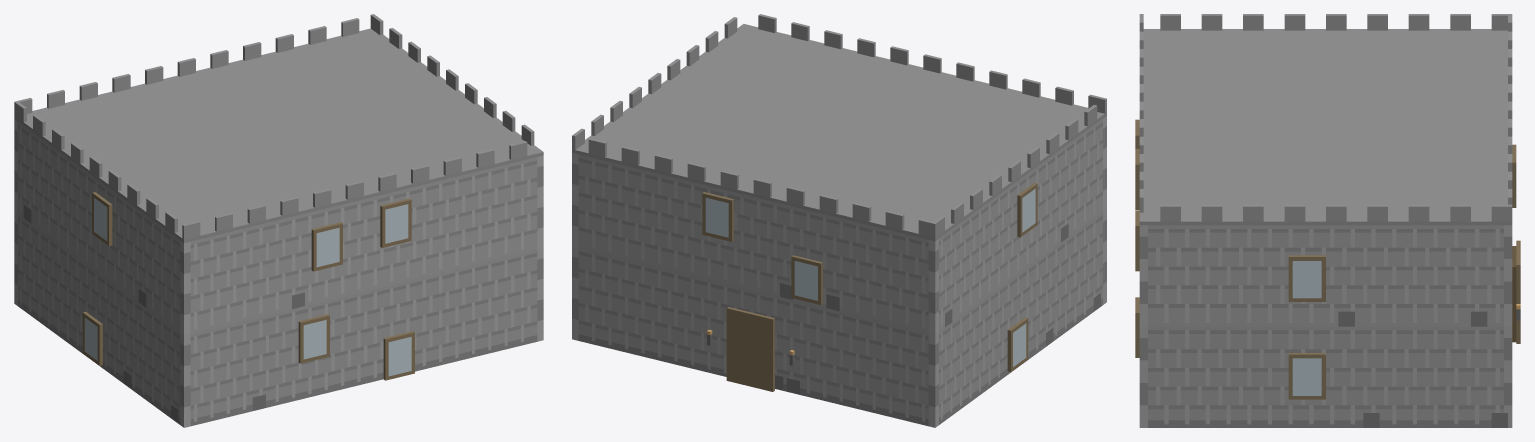
The model's file is cuartel_guardia_02.glb.
3 renders of one model, left to right at view 1: azimuth 30°, elevation 25°; view 2: azimuth 150°, elevation 25°; view 3: azimuth 270°, elevation 25°, orthographic. The views are drawn at different scales.
Parts seen in each view (by area): view 1: cuartel_guardia_02; view 2: cuartel_guardia_02; view 3: cuartel_guardia_02.
Boxes of the visible parts, <box> form: cuartel_guardia_02: <box>14,14,543,427</box>; cuartel_guardia_02: <box>572,14,1106,427</box>; cuartel_guardia_02: <box>1135,14,1520,427</box>.
Size of the model in its own units: 11.2 by 5.9 by 9.3.
